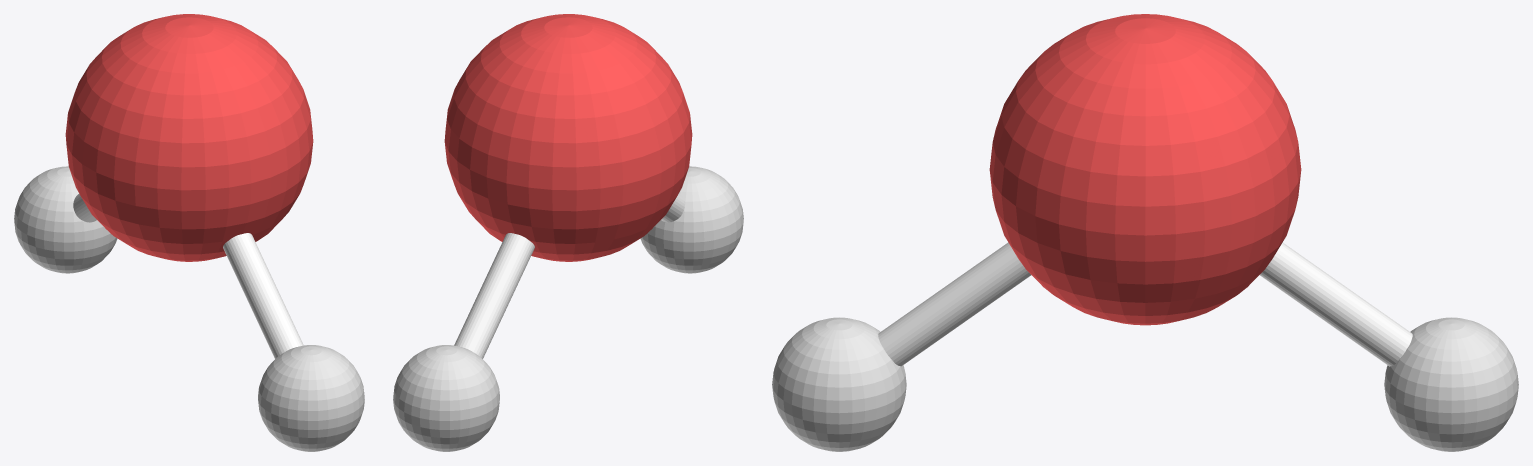
3 views of the same model, side by side, from view 1: azimuth 30°, elevation 25°; view 2: azimuth 150°, elevation 25°; view 3: azimuth 270°, elevation 25° (orthographic). The views are drawn at different scales.
Visible parts, largest first — view 1: 구체.001; view 2: 구체.001; view 3: 구체.001.
Boxes of the visible parts, left/top/right/bottom form: 구체.001: left=14, top=14, right=364, bottom=451; 구체.001: left=393, top=14, right=743, bottom=451; 구체.001: left=772, top=14, right=1518, bottom=451.
Bounding box in the file's own units: 197 × 291 × 472.
